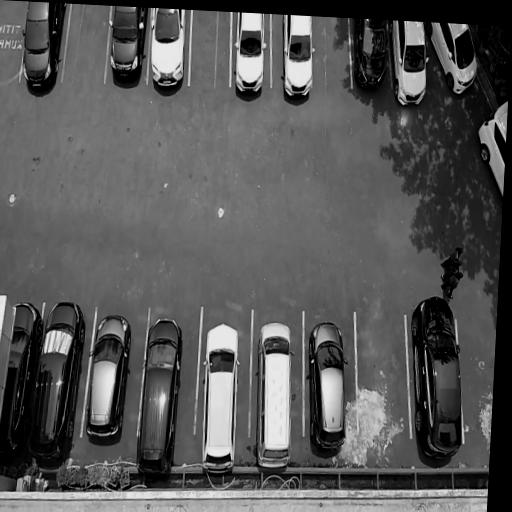Car: (405, 291, 473, 466), (24, 288, 88, 465), (130, 308, 190, 489), (192, 313, 247, 479), (79, 305, 137, 453), (298, 311, 355, 459), (247, 313, 297, 475), (0, 294, 40, 468), (19, 1, 64, 105), (471, 92, 508, 210), (427, 22, 481, 99), (387, 21, 429, 112), (145, 11, 189, 91), (230, 12, 270, 98), (105, 6, 148, 86), (277, 15, 316, 103), (352, 19, 390, 93)
Space Available: (356, 296, 407, 466), (191, 10, 232, 87), (314, 17, 352, 98), (66, 4, 107, 77), (0, 0, 26, 82)
